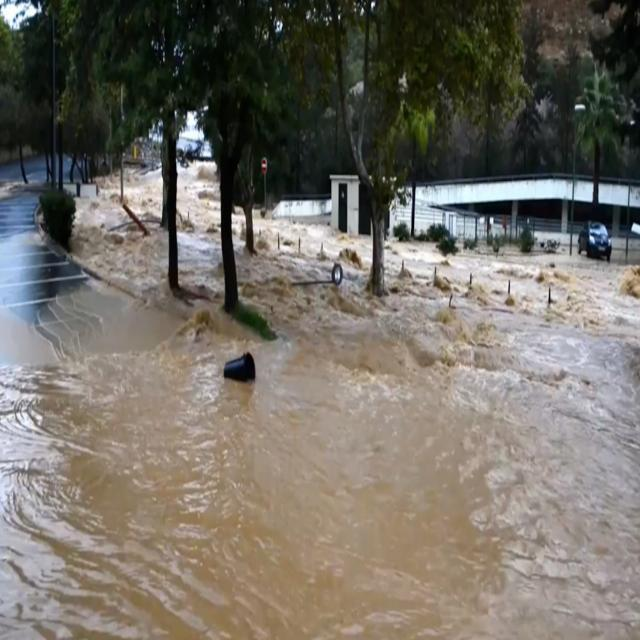flood: (0, 163, 640, 640), (129, 172, 159, 216)
house: (423, 168, 640, 255)
